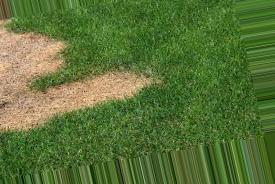patch: (7, 33, 55, 78), (11, 87, 142, 103)
